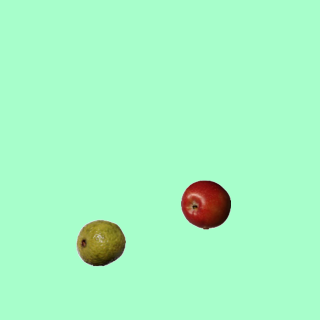Apple Braeburn: (180, 179, 230, 229)
Guava: (75, 217, 125, 267)
